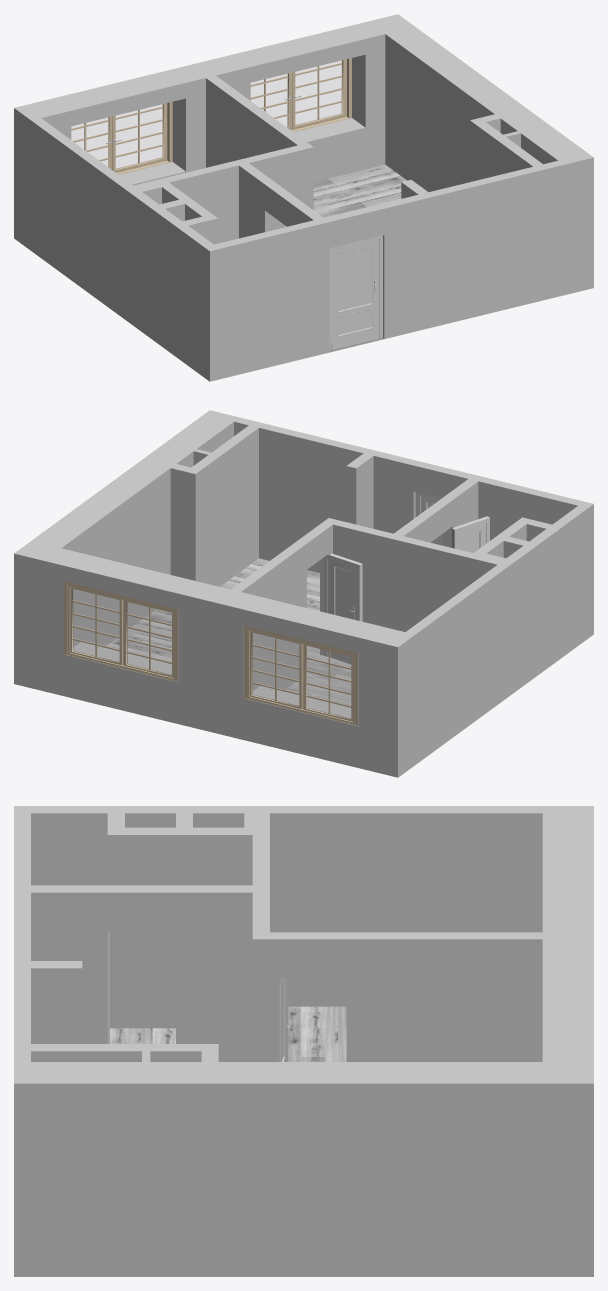
The model's file is HouseSclool.fbx.
The picture shows the model from 3 angles, top to bottom: view 1: azimuth 30°, elevation 25°; view 2: azimuth 150°, elevation 25°; view 3: azimuth 270°, elevation 25°; orthographic projection. The views are drawn at different scales.
Visible parts, largest first — view 1: Стены, 16696_20_Pane_Casement_Window-Pine_V1, 16696_20_Pane_Casement_Window-Pine_V1.001, door_Mesh.002, пол, marc_Cube.002; view 2: Стены, 16696_20_Pane_Casement_Window-Pine_V1.001, 16696_20_Pane_Casement_Window-Pine_V1, пол, door_Mesh, marc_Cube, door_Mesh.001; view 3: Стены, пол, door_Mesh.
Boxes of the visible parts, bbox=[...] form: Стены: bbox=[14, 14, 593, 381]; 16696_20_Pane_Casement_Window-Pine_V1: bbox=[250, 58, 351, 132]; 16696_20_Pane_Casement_Window-Pine_V1.001: bbox=[71, 102, 172, 174]; door_Mesh.002: bbox=[331, 239, 378, 349]; пол: bbox=[313, 164, 406, 352]; marc_Cube.002: bbox=[329, 235, 382, 350]; Стены: bbox=[14, 410, 593, 777]; 16696_20_Pane_Casement_Window-Pine_V1.001: bbox=[243, 625, 358, 725]; 16696_20_Pane_Casement_Window-Pine_V1: bbox=[64, 581, 178, 682]; пол: bbox=[106, 558, 351, 705]; door_Mesh: bbox=[328, 558, 356, 664]; marc_Cube: bbox=[324, 553, 362, 656]; door_Mesh.001: bbox=[458, 523, 485, 552]; Стены: bbox=[14, 806, 593, 1276]; пол: bbox=[110, 1006, 346, 1061]; door_Mesh: bbox=[279, 978, 286, 1061].
Bounding box in the file's own units: 7.7 × 2.53 × 6.8.
